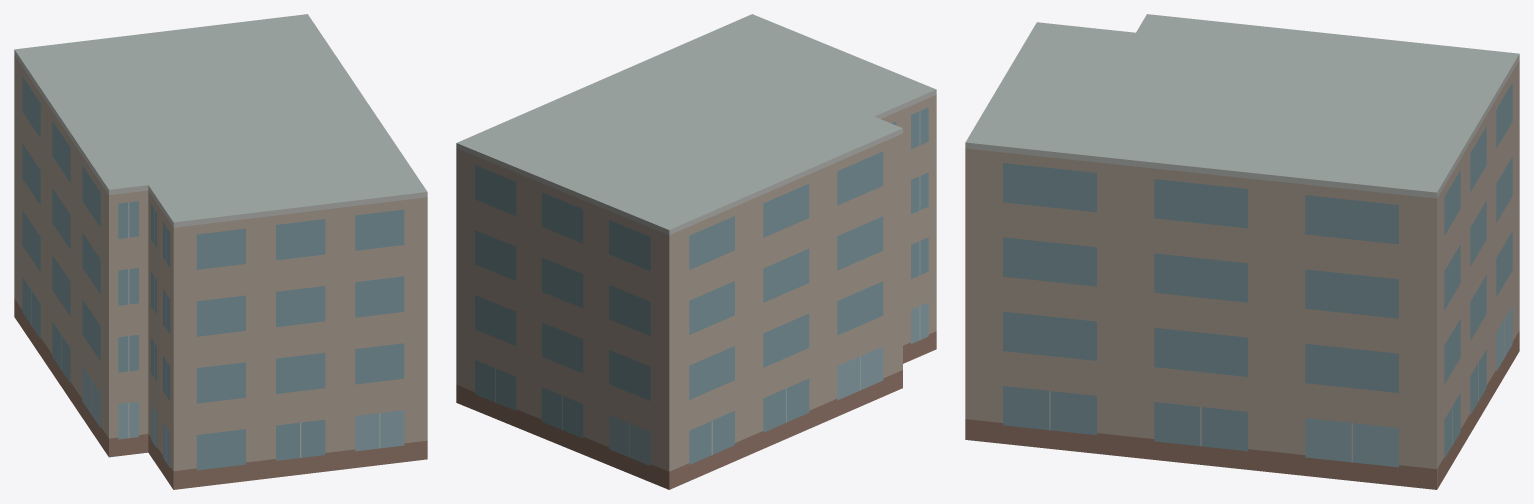
File: residential-ce4bd515-49b9-455e-8c69-e59f22a8f807.glb
The picture shows the model from 3 angles, left to right: view 1: azimuth 30°, elevation 25°; view 2: azimuth 150°, elevation 25°; view 3: azimuth 270°, elevation 25°; orthographic projection. The views are drawn at different scales.
Visible parts, largest first — view 1: residential-ce4bd515-49b9-455e-8c69-e59f22a8f807.tmp; view 2: residential-ce4bd515-49b9-455e-8c69-e59f22a8f807.tmp; view 3: residential-ce4bd515-49b9-455e-8c69-e59f22a8f807.tmp.
Boxes of the visible parts, <box> form: residential-ce4bd515-49b9-455e-8c69-e59f22a8f807.tmp: <box>14,14,427,489</box>; residential-ce4bd515-49b9-455e-8c69-e59f22a8f807.tmp: <box>456,14,936,489</box>; residential-ce4bd515-49b9-455e-8c69-e59f22a8f807.tmp: <box>965,14,1519,489</box>.
Size of the model in its own units: 15.73 by 12.2 by 20.63.
